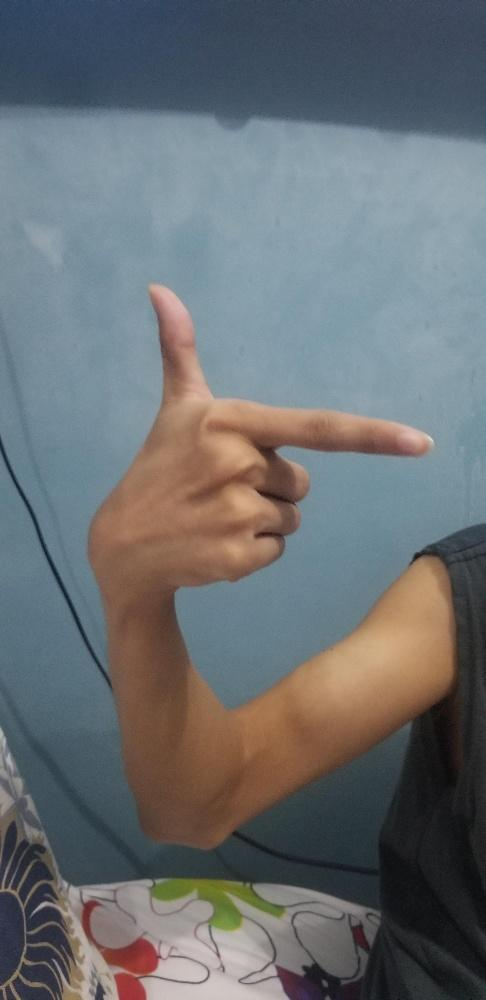g: (83, 280, 432, 598)
